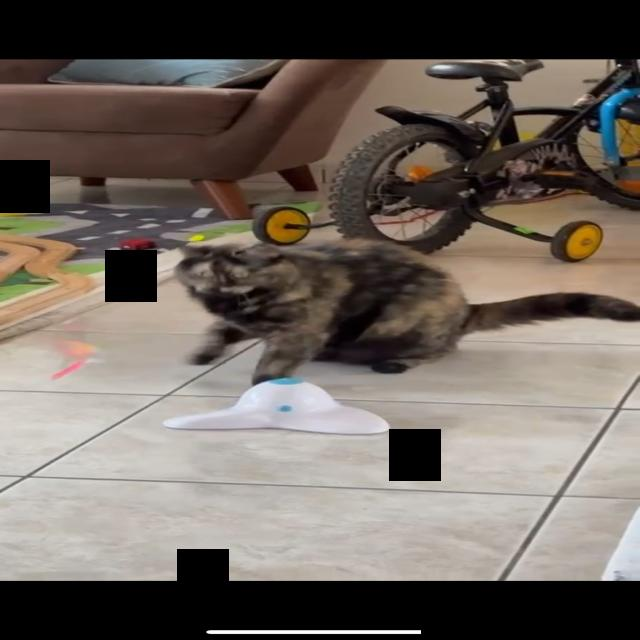authorized: (172, 238, 639, 386)
